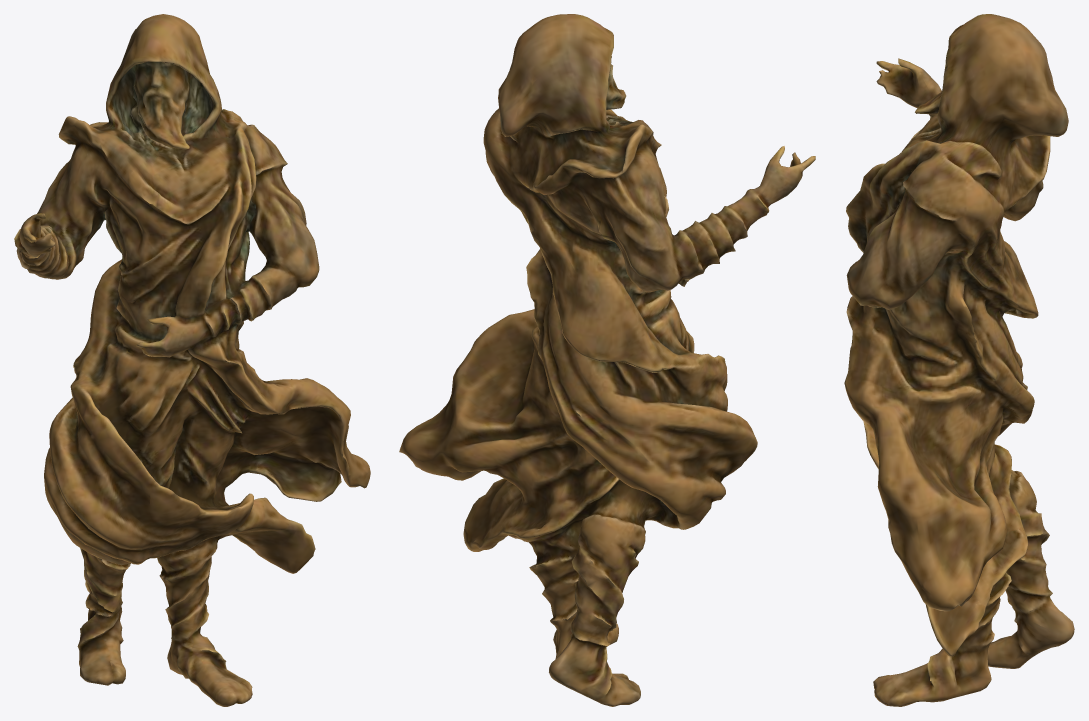
File: SM_Statue_Hooded_Metal.glb
The picture shows the model from 3 angles, left to right: view 1: azimuth 30°, elevation 25°; view 2: azimuth 150°, elevation 25°; view 3: azimuth 270°, elevation 25°; orthographic projection. The views are drawn at different scales.
Parts seen in each view (by area): view 1: SM_Statue_Hooded_Metal; view 2: SM_Statue_Hooded_Metal; view 3: SM_Statue_Hooded_Metal.
Boxes of the visible parts, x1=… form: SM_Statue_Hooded_Metal: x1=14, y1=14, x2=370, y2=706; SM_Statue_Hooded_Metal: x1=399, y1=14, x2=815, y2=706; SM_Statue_Hooded_Metal: x1=844, y1=14, x2=1074, y2=706.
Bounding box in the file's own units: 0.1189 × 0.1996 × 0.0622.
1 material, 1 textured.
